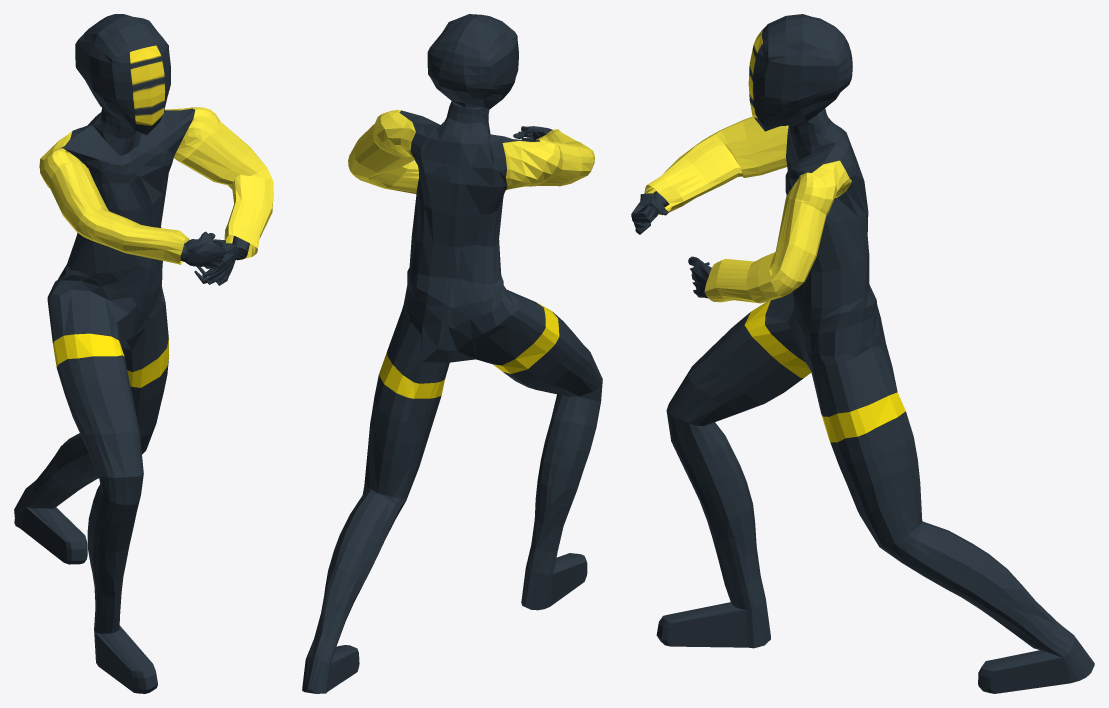
The model's file is Sentry_Hit_Stun_000005.obj.
3 views of the same model, side by side, from view 1: azimuth 30°, elevation 25°; view 2: azimuth 150°, elevation 25°; view 3: azimuth 270°, elevation 25° (orthographic). The views are drawn at different scales.
Visible parts, largest first — view 1: Cube; view 2: Cube; view 3: Cube.
Part boxes in pixels (x1=…): Cube: x1=14, y1=14, x2=273, y2=693; Cube: x1=302, y1=14, x2=602, y2=693; Cube: x1=631, y1=14, x2=1094, y2=693.
Bounding box in the file's own units: 1.33 × 3.52 × 2.27.
